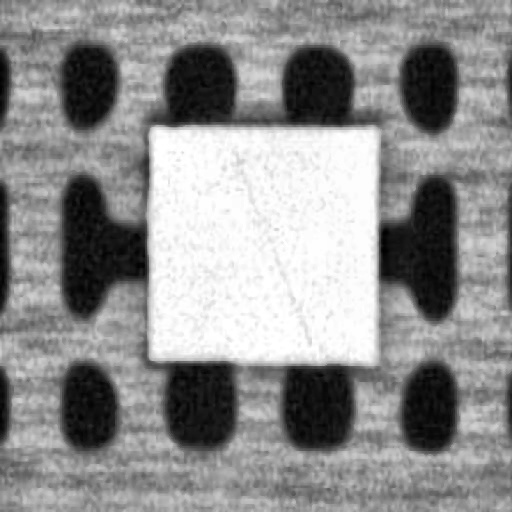DIE_CRACK: (236, 159, 314, 345)
